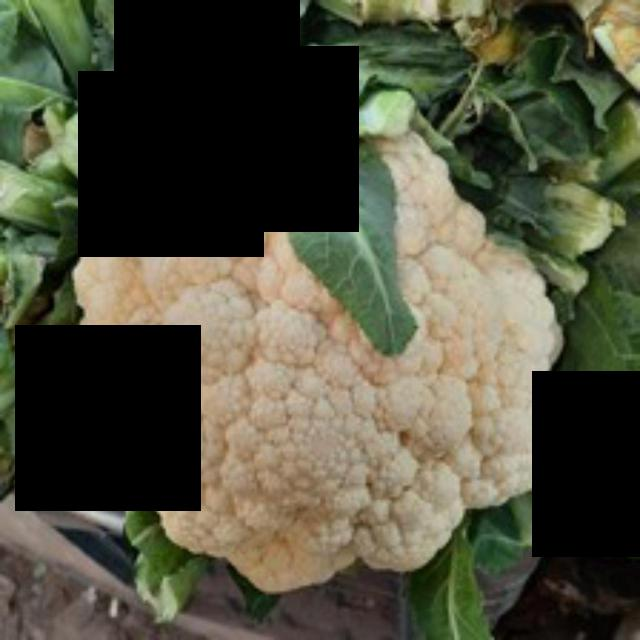cauliflower: (70, 77, 581, 610)
